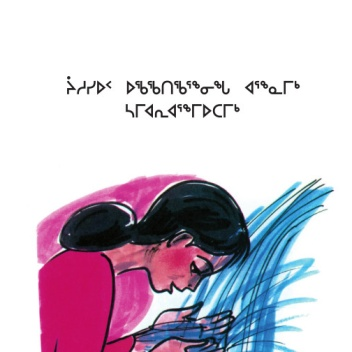inuktitut: (63, 72, 303, 97), (121, 97, 243, 123)
